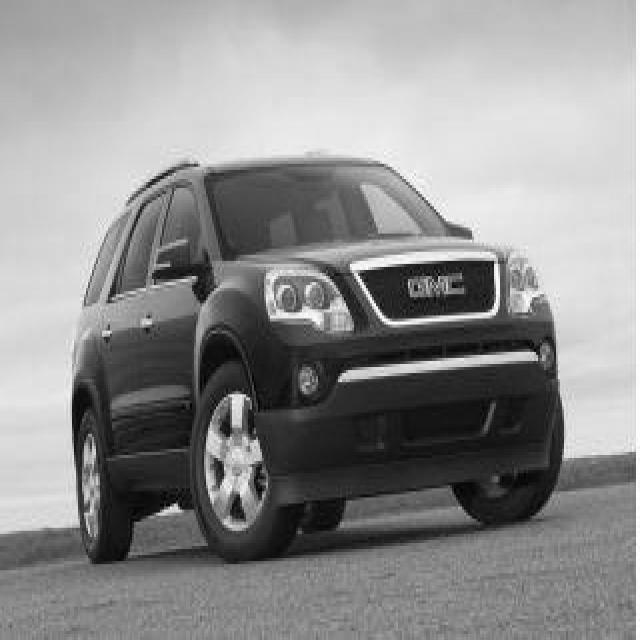Car: (71, 159, 563, 560)
